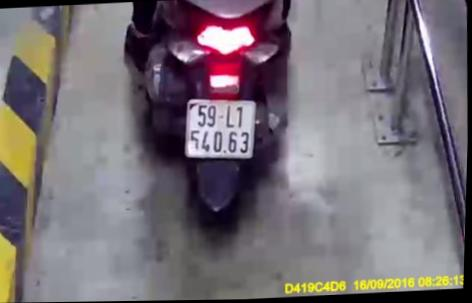LP: (184, 95, 261, 163)
